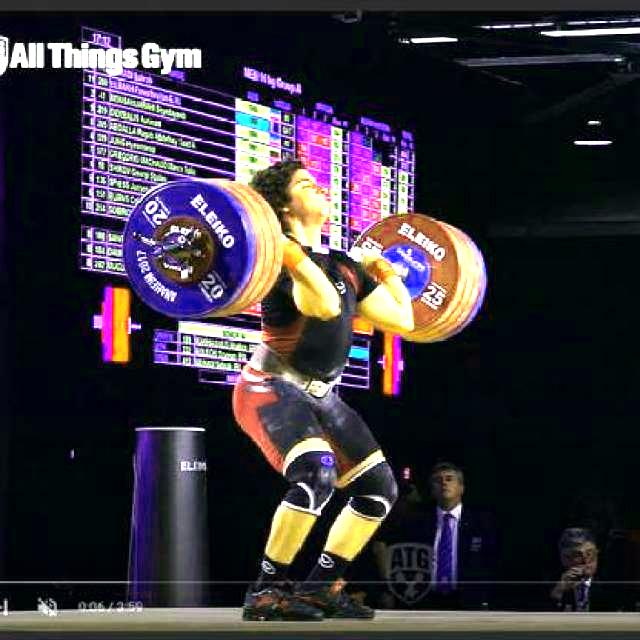barbell: (113, 167, 272, 325)
